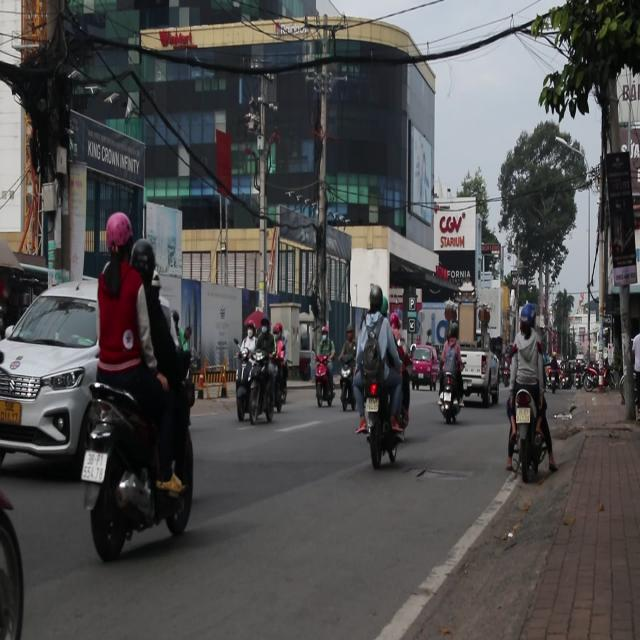car: (0, 279, 137, 477), (463, 349, 500, 405), (408, 346, 441, 392)
motorbike: (80, 375, 190, 561), (358, 366, 403, 472), (511, 380, 543, 482), (244, 356, 276, 426), (438, 376, 464, 425), (312, 351, 334, 408), (337, 354, 357, 413), (592, 364, 614, 392), (579, 365, 598, 391)
